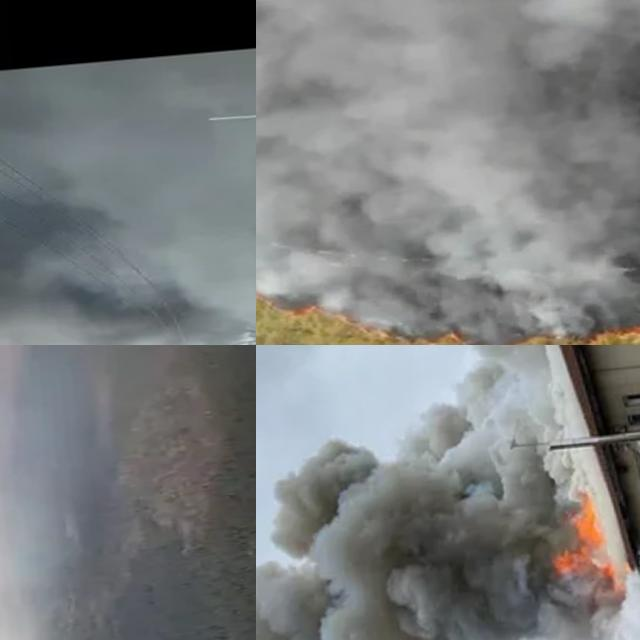smoke: (256, 0, 640, 345), (256, 393, 630, 640), (0, 37, 256, 345)
